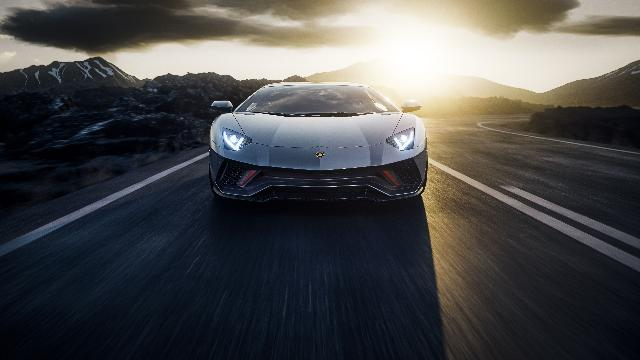lamborghini: (209, 82, 427, 204)
